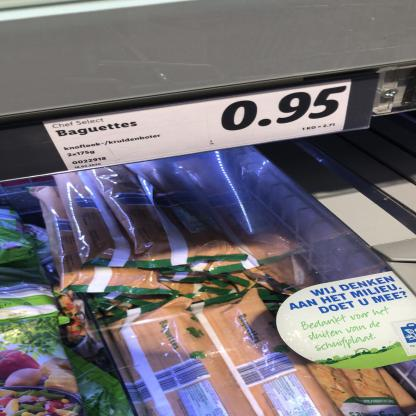prtg: (43, 80, 352, 172)
